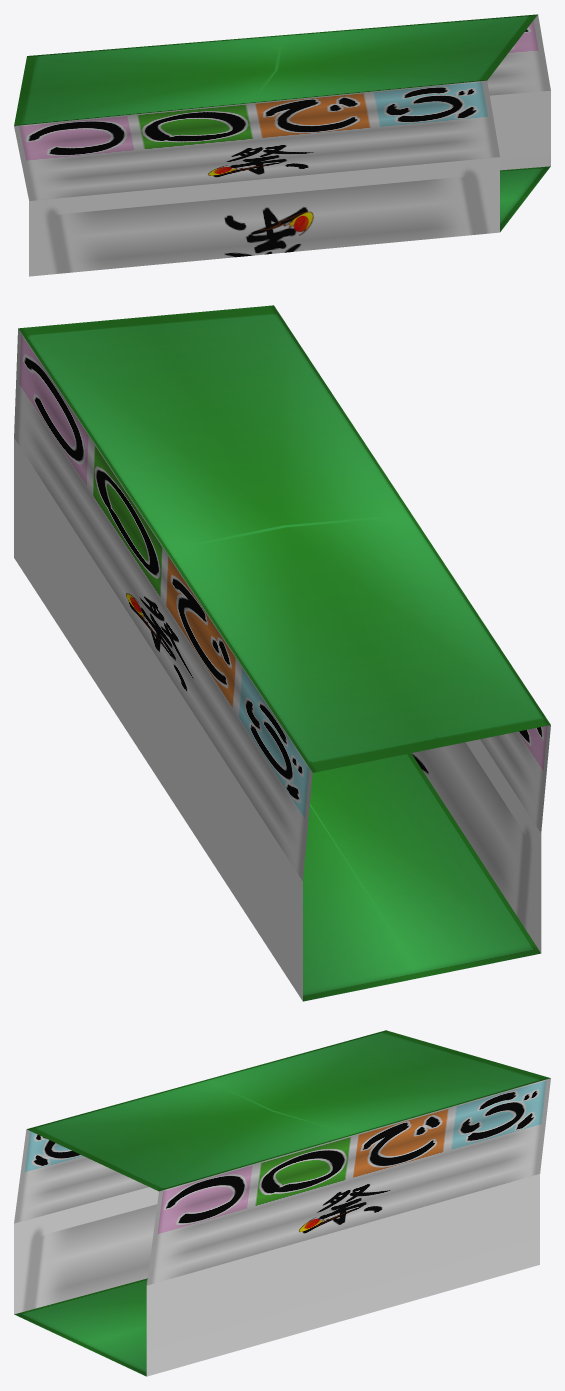
File: CourseSummer_Concave_9_5.fbx
3 views of the same model, one above another, from view 1: azimuth 30°, elevation 25°; view 2: azimuth 150°, elevation 25°; view 3: azimuth 270°, elevation 25° (orthographic). The views are drawn at different scales.
Visible parts, largest first — view 1: polySurface331; view 2: polySurface331; view 3: polySurface331.
Boxes of the visible parts, box(x1,y1,x2,y2) form: polySurface331: box(14, 14, 550, 276); polySurface331: box(14, 305, 550, 1001); polySurface331: box(14, 1030, 550, 1376).
Bounding box in the file's own units: 6.06 × 2.99 × 5.35.
1 material, 1 textured.
